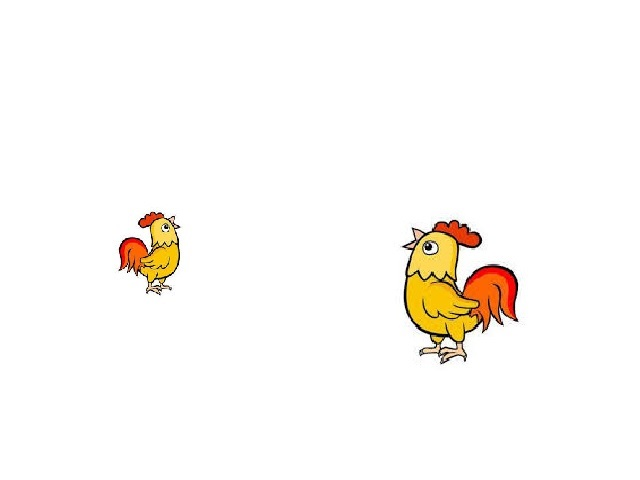crown: (433, 221, 482, 248), (139, 211, 162, 226)
eyes: (422, 240, 441, 256), (159, 221, 171, 233)
feet: (421, 342, 469, 367), (146, 282, 176, 299)
tail: (466, 263, 520, 329), (119, 235, 148, 279)
